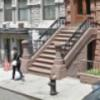stairs: (22, 23, 88, 75)
